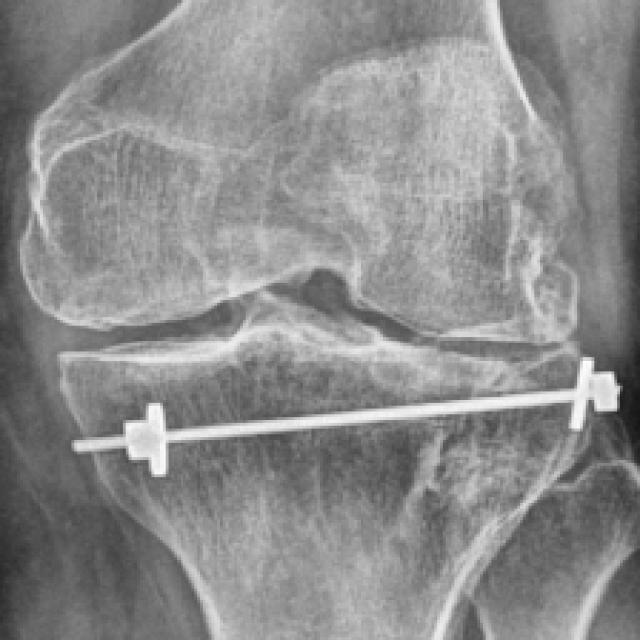femur: (17, 0, 581, 345)
tibia: (57, 290, 623, 640)
